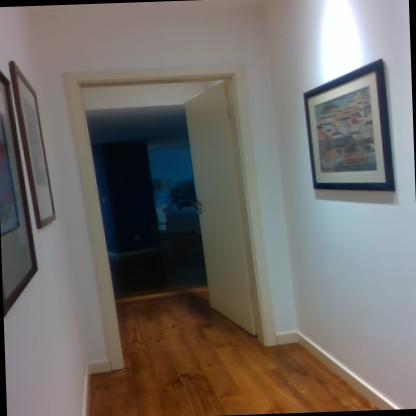closed: (49, 52, 268, 371)
